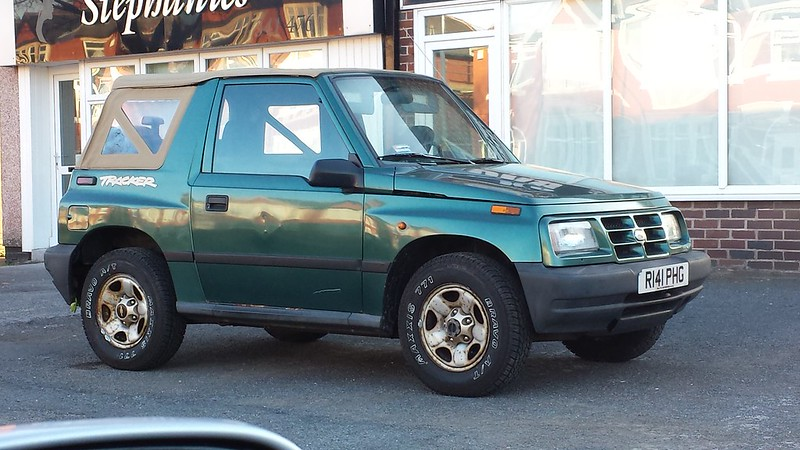number_plate: (633, 263, 705, 299)
